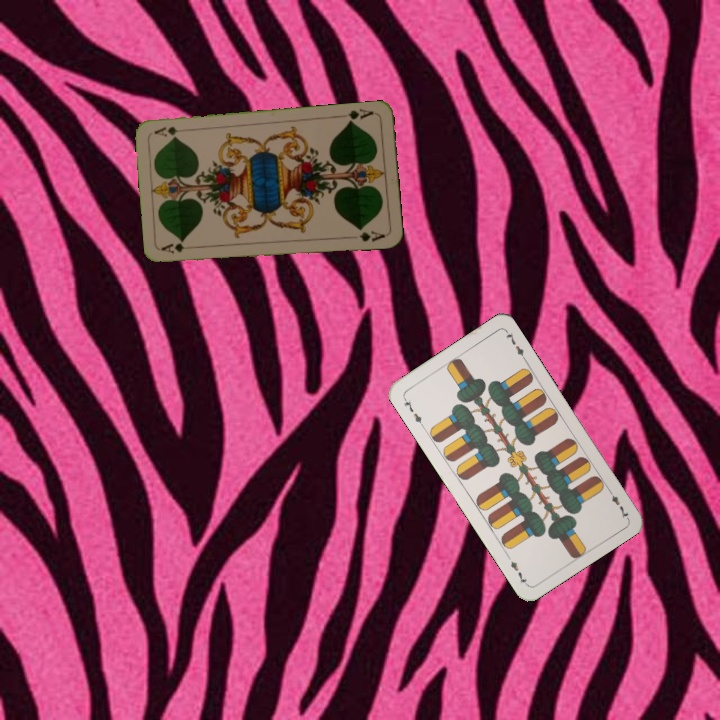E7: (399, 393, 426, 430), (604, 484, 631, 521)
GA: (344, 105, 376, 126), (158, 241, 199, 256)
